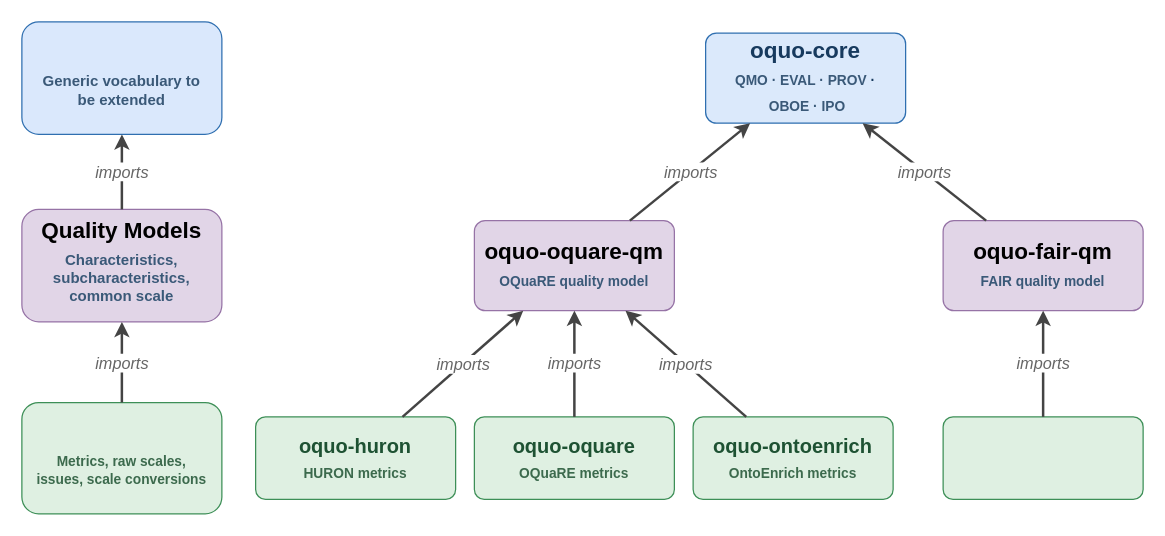
The diagram is 1165 pixels wide and 536 high, and some of its shapes have lost their labels. Each missing label, with the box of its shape:
Core: (21, 21, 222, 134)
FAIR frameworks...: (942, 416, 1143, 499)
Framework Modules: (21, 401, 222, 514)
